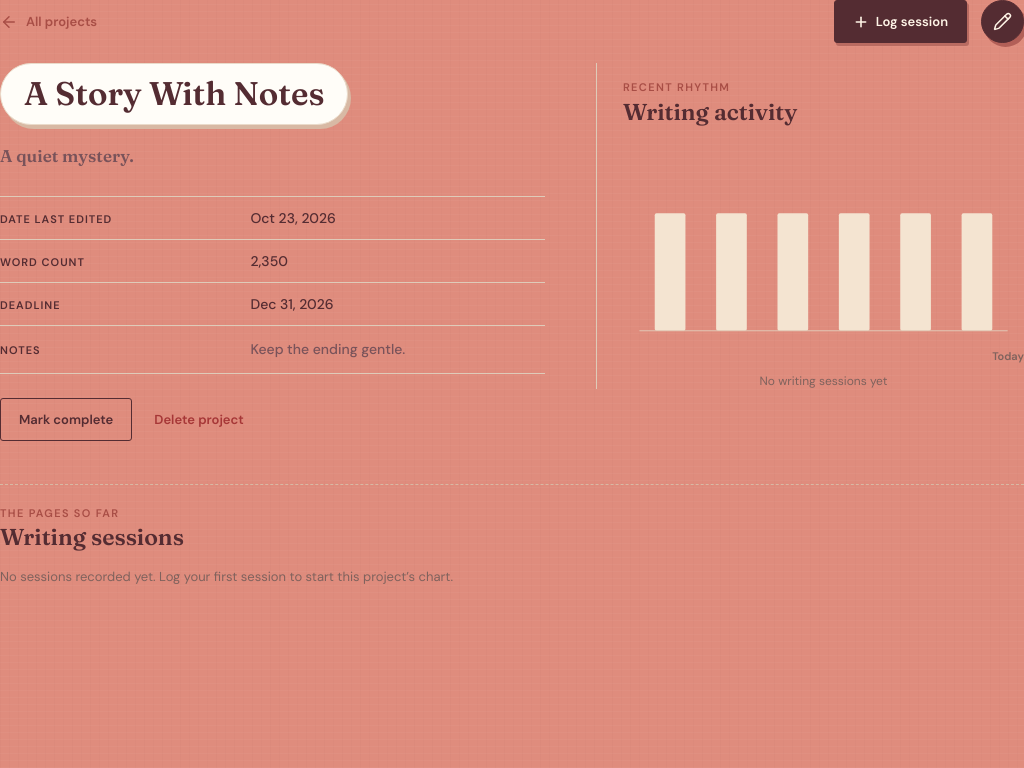
Test: ProjectDetail › keeps the dialog open with an error when deletion fails
Click the button "Delete project" at (199, 419), box [154,406,244,433]
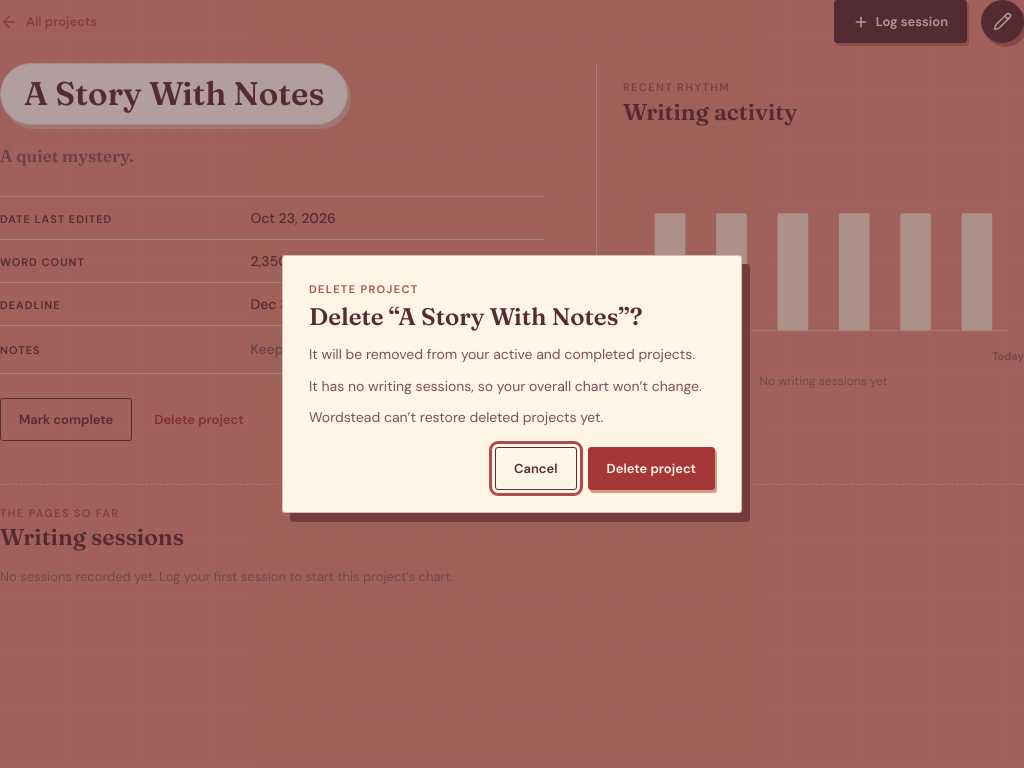
Click the button "Delete project" at (651, 469), box [588,447,715,490]
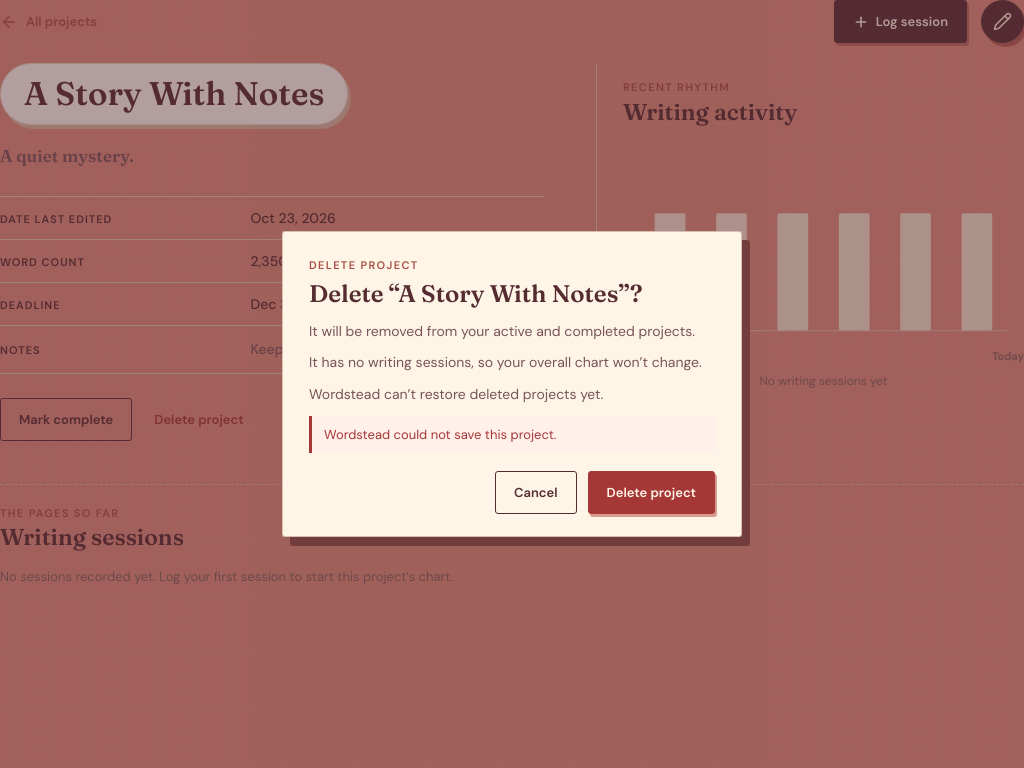
Check: the message reads "Wordstead could not save this project.", box [324,426,556,443]
